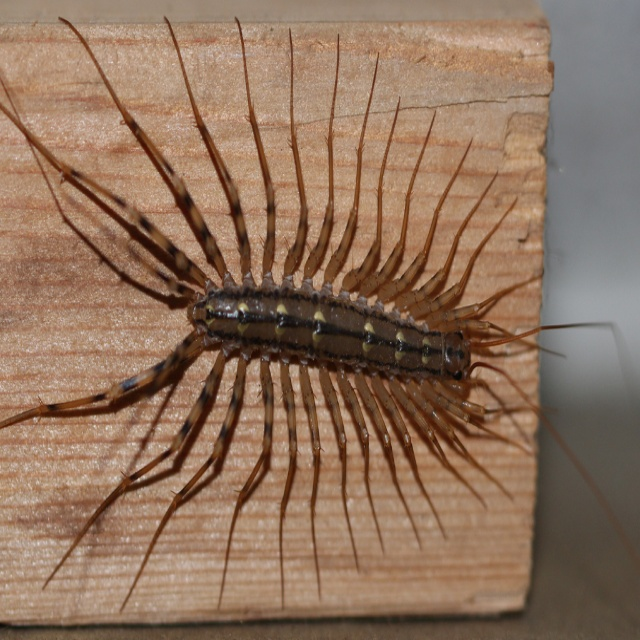Centipede: (0, 15, 640, 616)
